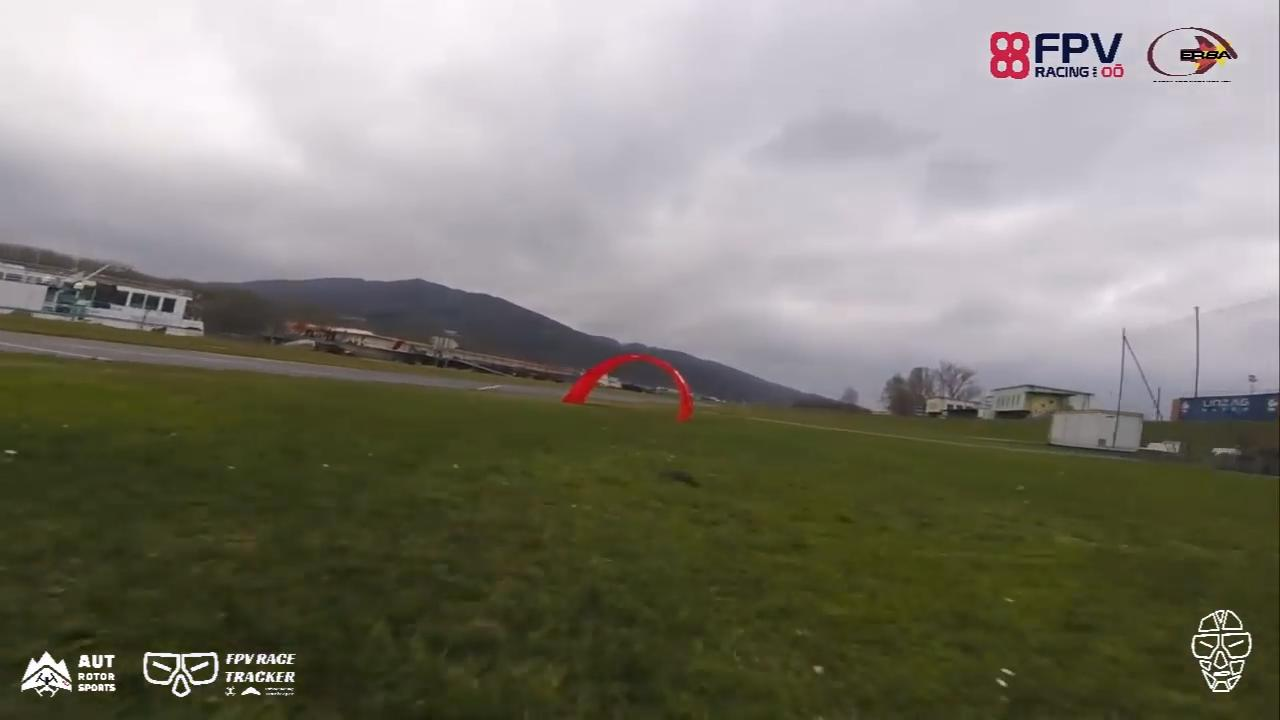gate: (559, 351, 695, 423)
